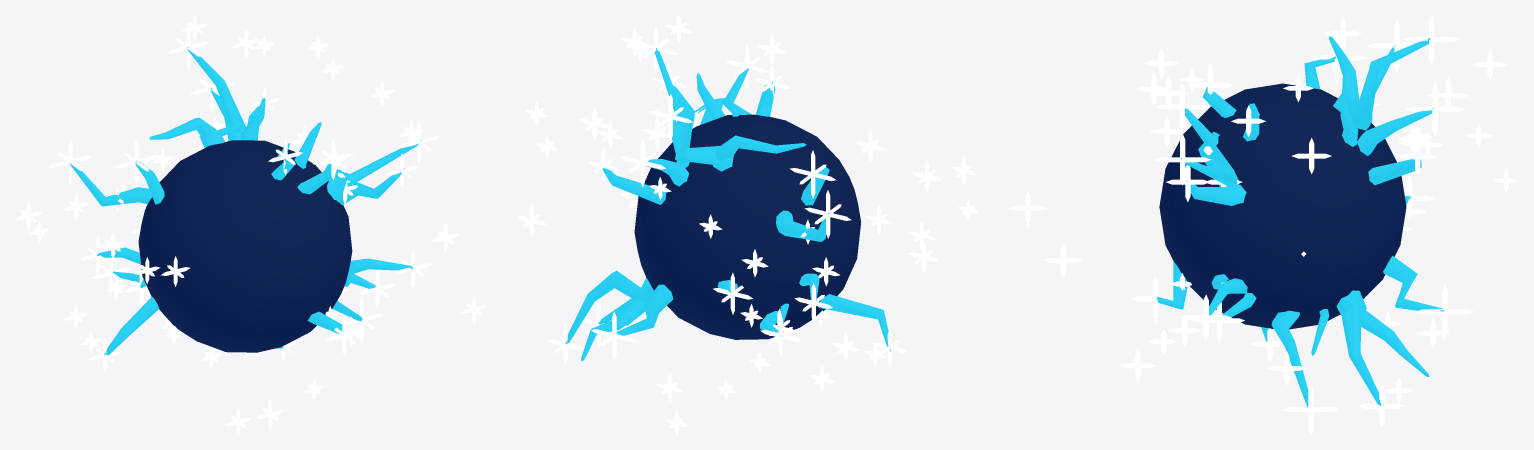
Rendered from LA_SparkBurst.glb.
3 renders of one model, left to right at view 1: azimuth 30°, elevation 25°; view 2: azimuth 150°, elevation 25°; view 3: azimuth 270°, elevation 25°, orthographic. The views are drawn at different scales.
Parts seen in each view (by area): view 1: LA_SparkBurst_Halo, LA_SparkBurst_Shape_C, LA_SparkBurst_Shape_B, LA_SparkBurst_Shape_A; view 2: LA_SparkBurst_Halo, LA_SparkBurst_Shape_C, LA_SparkBurst_Shape_A, LA_SparkBurst_Shape_B; view 3: LA_SparkBurst_Halo, LA_SparkBurst_Shape_C, LA_SparkBurst_Shape_A, LA_SparkBurst_Shape_B.
Part boxes in pixels (left/top/right/bottom): LA_SparkBurst_Halo: left=138, top=140, right=352, bottom=352; LA_SparkBurst_Shape_C: left=29, top=26, right=440, bottom=435; LA_SparkBurst_Shape_B: left=14, top=14, right=487, bottom=372; LA_SparkBurst_Shape_A: left=64, top=28, right=459, bottom=400; LA_SparkBurst_Halo: left=634, top=114, right=861, bottom=339; LA_SparkBurst_Shape_C: left=536, top=25, right=939, bottom=401; LA_SparkBurst_Shape_A: left=516, top=64, right=977, bottom=391; LA_SparkBurst_Shape_B: left=525, top=14, right=979, bottom=435; LA_SparkBurst_Halo: left=1159, top=83, right=1406, bottom=329; LA_SparkBurst_Shape_C: left=1008, top=14, right=1519, bottom=427; LA_SparkBurst_Shape_A: left=1144, top=32, right=1473, bottom=385; LA_SparkBurst_Shape_B: left=1120, top=17, right=1506, bottom=435.
Bounding box in the file's own units: 7.24 × 5.51 × 6.63.
